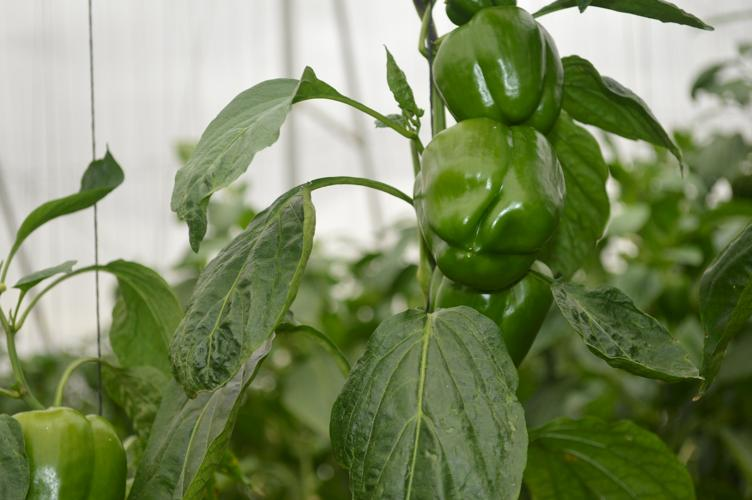BellPepper: (410, 132, 555, 289), (417, 266, 559, 395), (430, 7, 577, 128), (5, 408, 135, 500)
